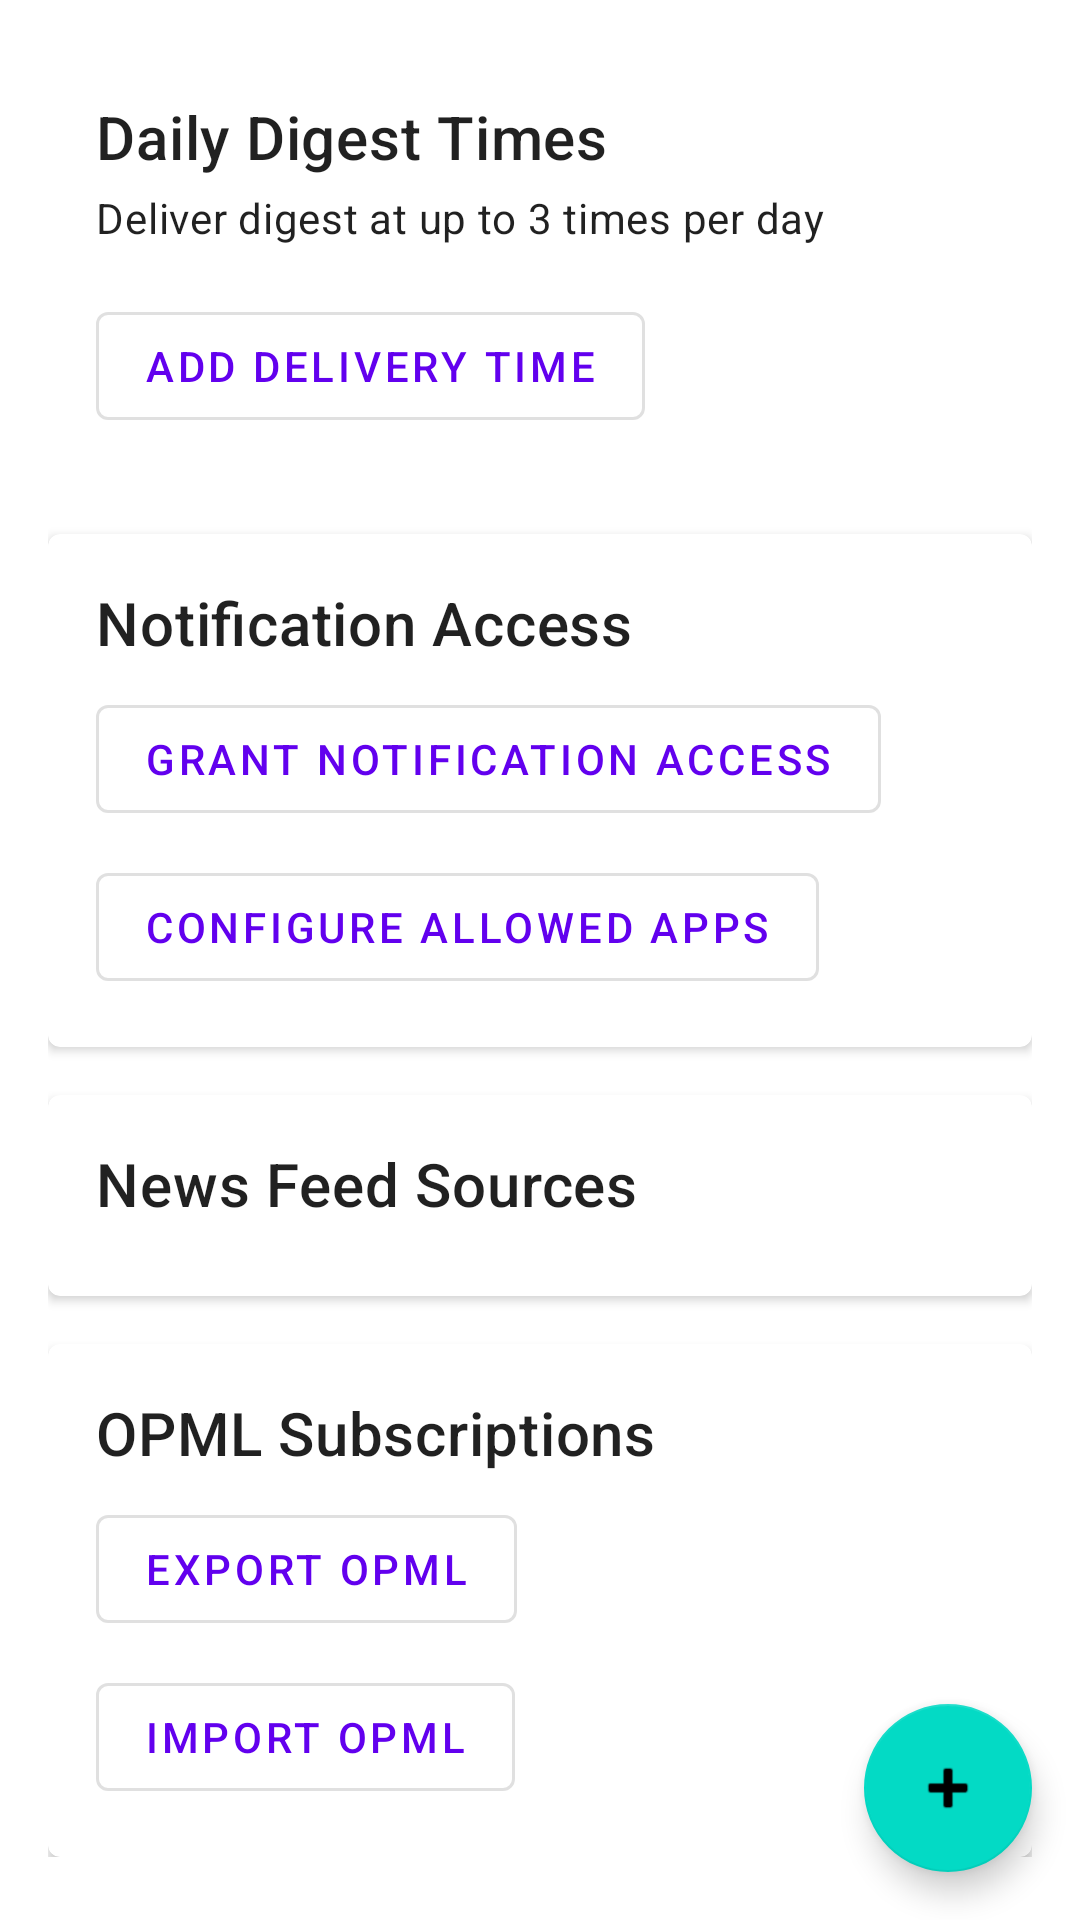

Icon bounding boxes for this 1080px x 1920px phone screenshot, format (x1, y1, x2, y2):
Add Feed Source: (864, 1704, 1032, 1872)
